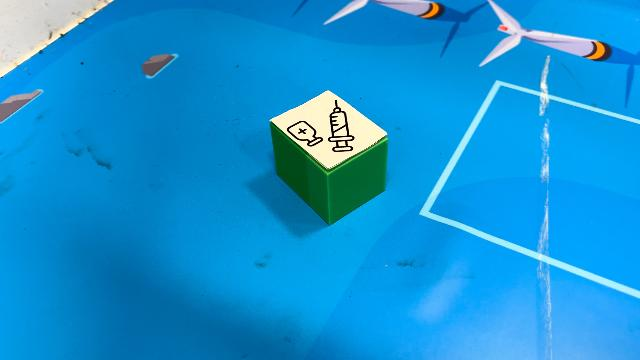syringe: (270, 89, 390, 225)
